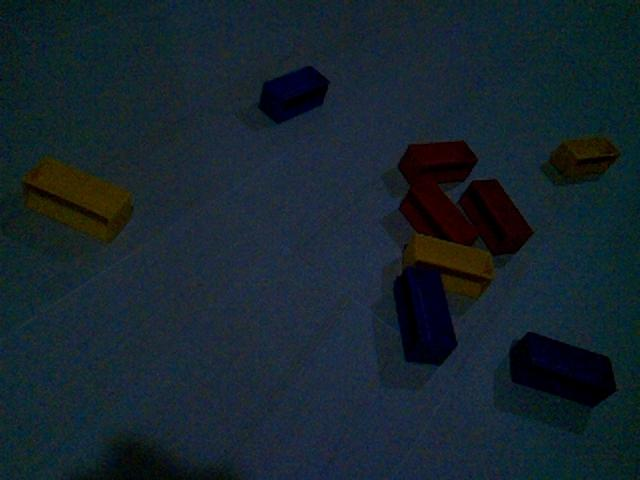blue: (507, 329, 619, 410), (391, 263, 460, 367), (257, 63, 332, 125)
red: (458, 177, 535, 256), (399, 180, 479, 246), (397, 138, 479, 186)
yellow: (20, 154, 135, 245), (401, 231, 496, 300), (544, 133, 622, 185)
